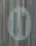Two way: (4, 5, 35, 44)
